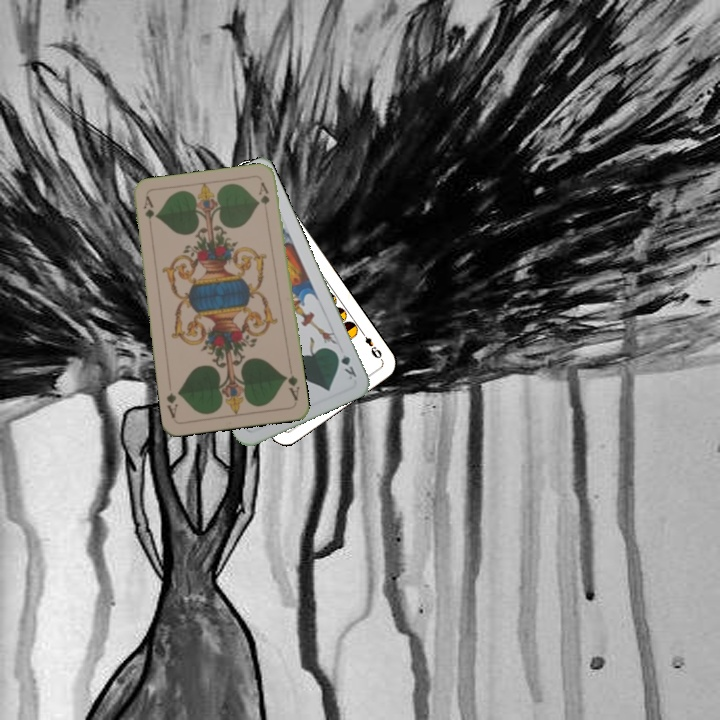E9: (357, 326, 385, 361)
GA: (280, 364, 302, 403), (139, 193, 157, 233)
GK: (331, 347, 359, 382)
